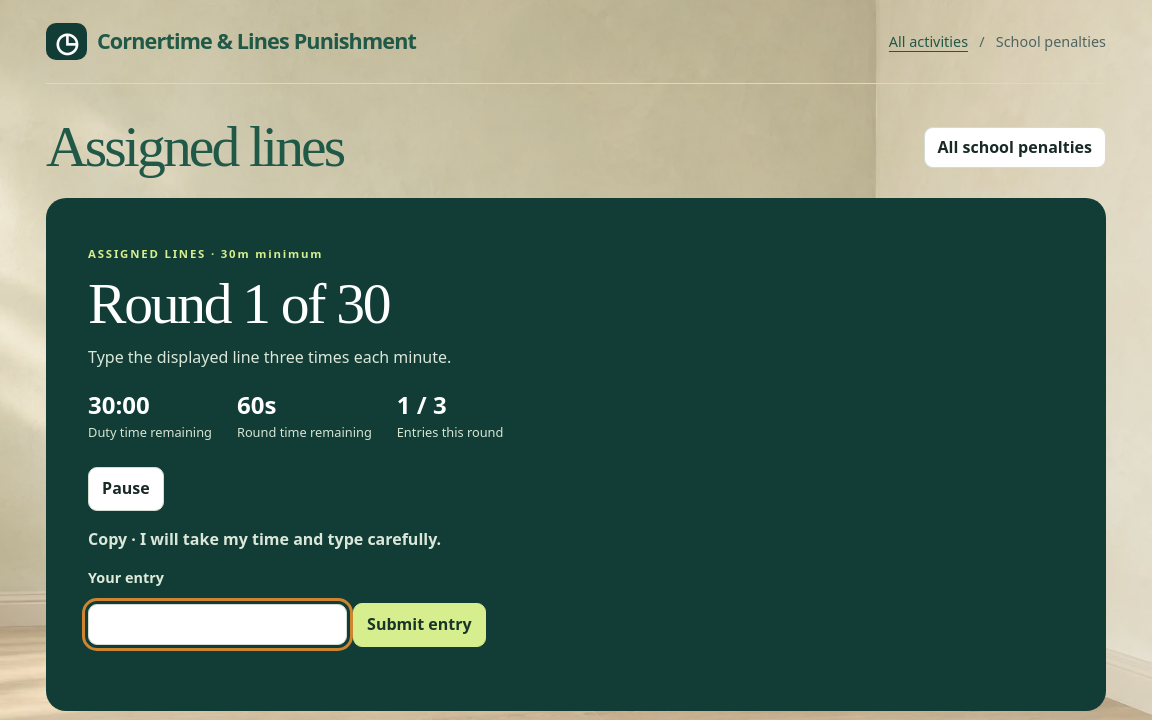
Test: rejects wrong lines, waits for the minute, resumes a draft and allows repeating a finished duty
This screenshot has width=1152, height=720.
Earlier steps of the test are not shown.
Later steps or results of the test are not shown.
Type "I will take my time and type carefully." into the field labelled "Your entry".
click(218, 625); type("I will take my time and type carefully.")  # box [88,604,347,645]
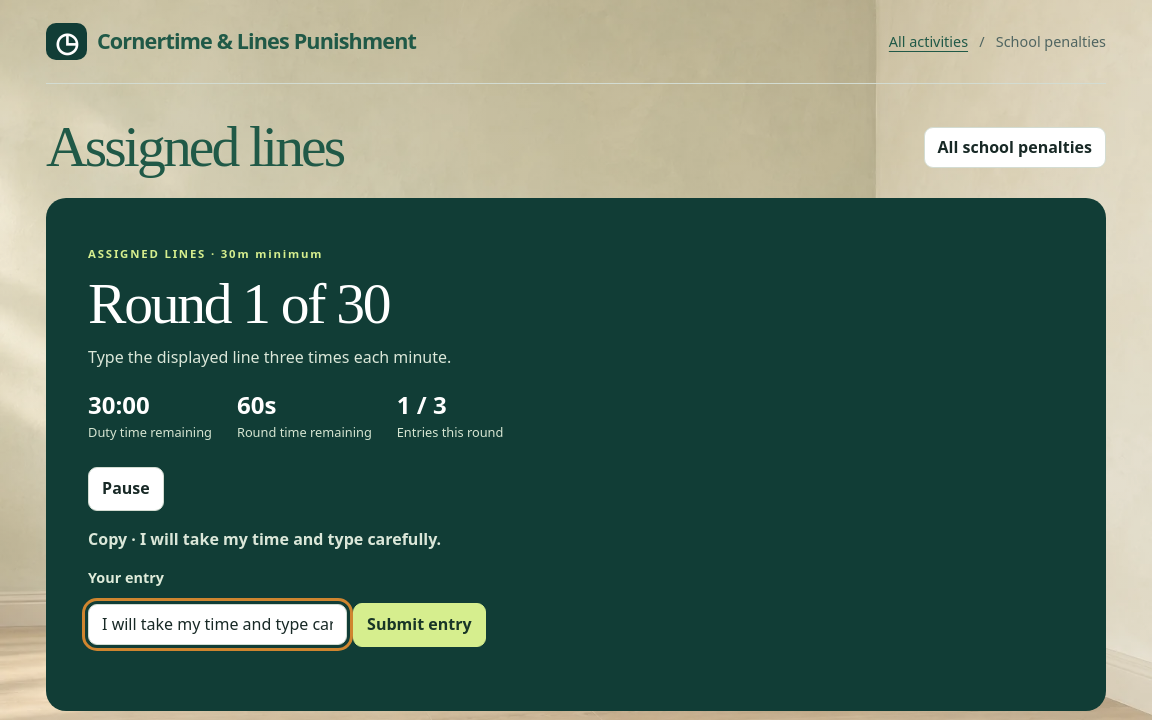
Submit the form, box [88,568,486,647]
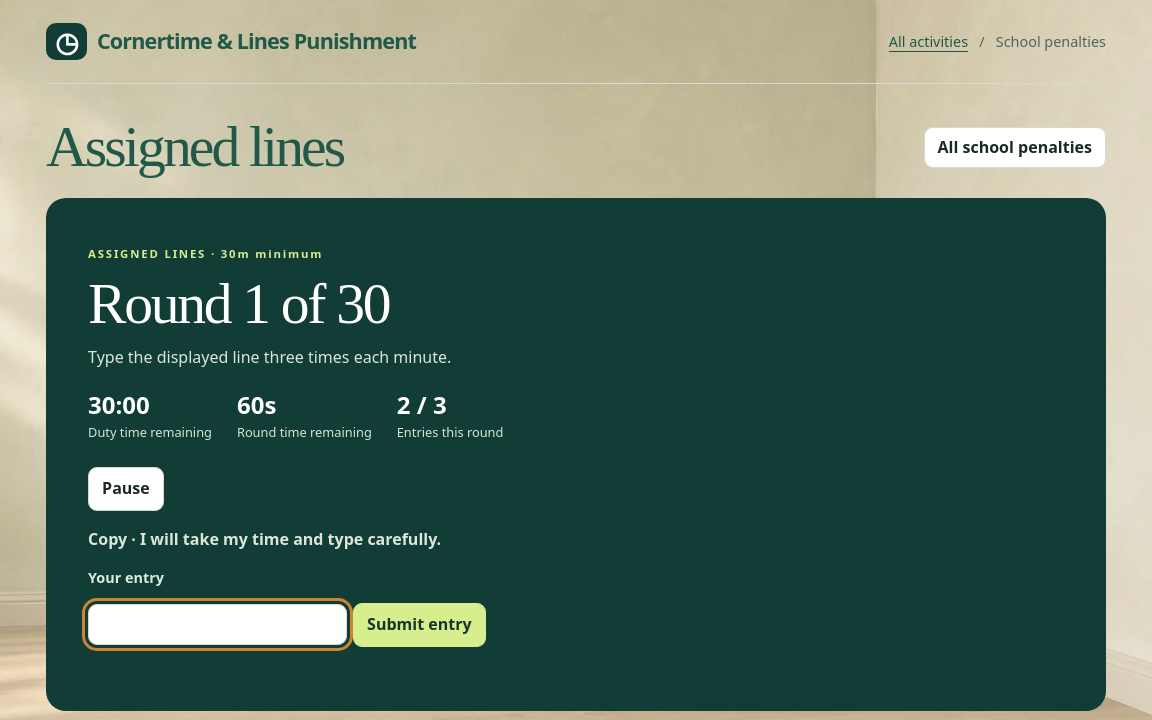
Type "I will take my time and type carefully." into the field labelled "Your entry".
click(218, 625); type("I will take my time and type carefully.")  # box [88,604,347,645]
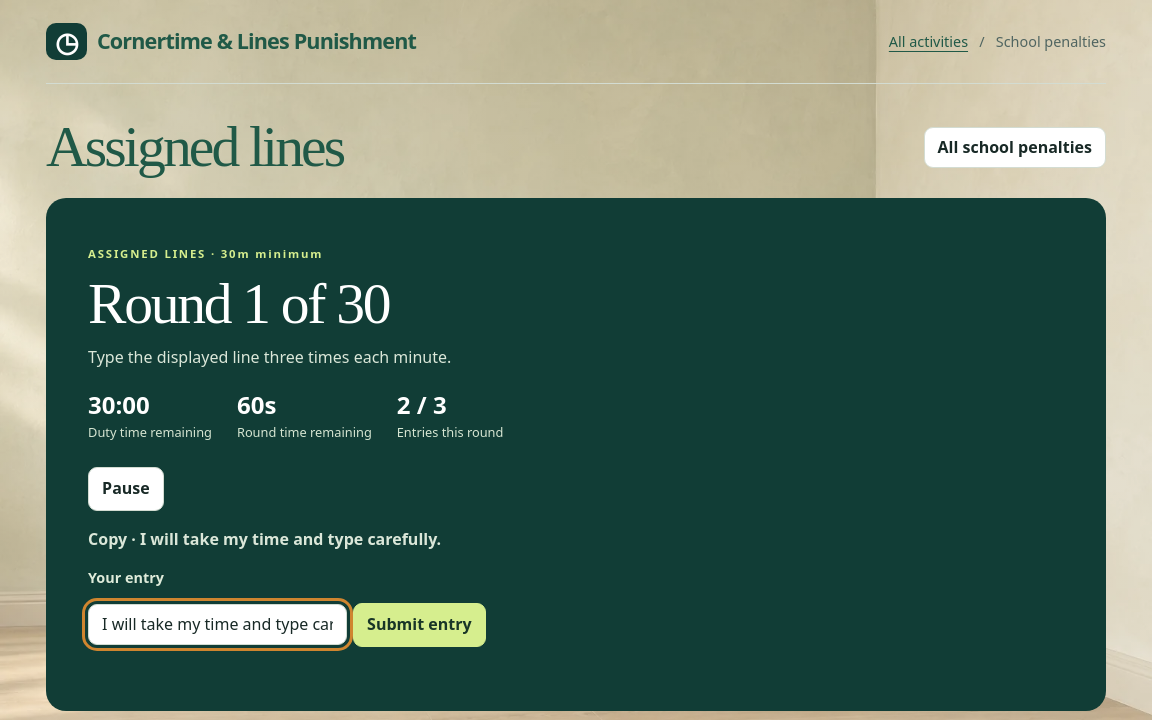
Submit the form, box [88,568,486,647]
Wait 59000 ms
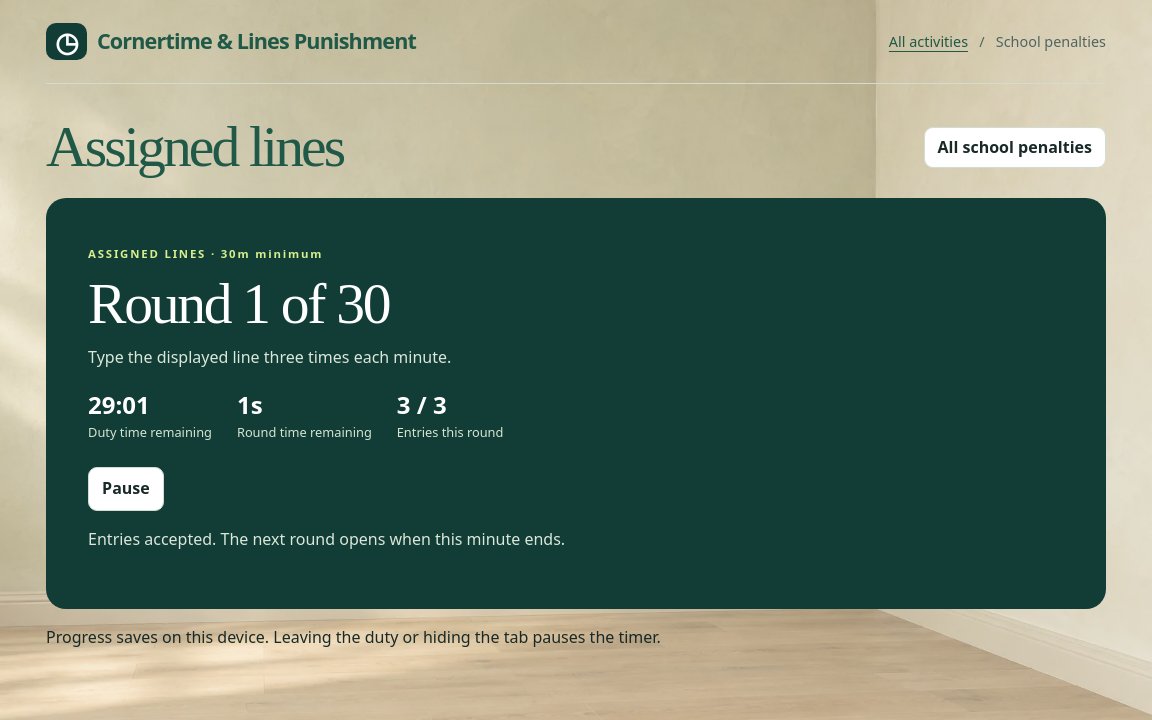
Expected: the text "Round 1 of 30" is shown, [88,272,389,335]
Click the button "Pause".
click(126, 489)  # box [88,467,164,511]
Wait 60000 ms
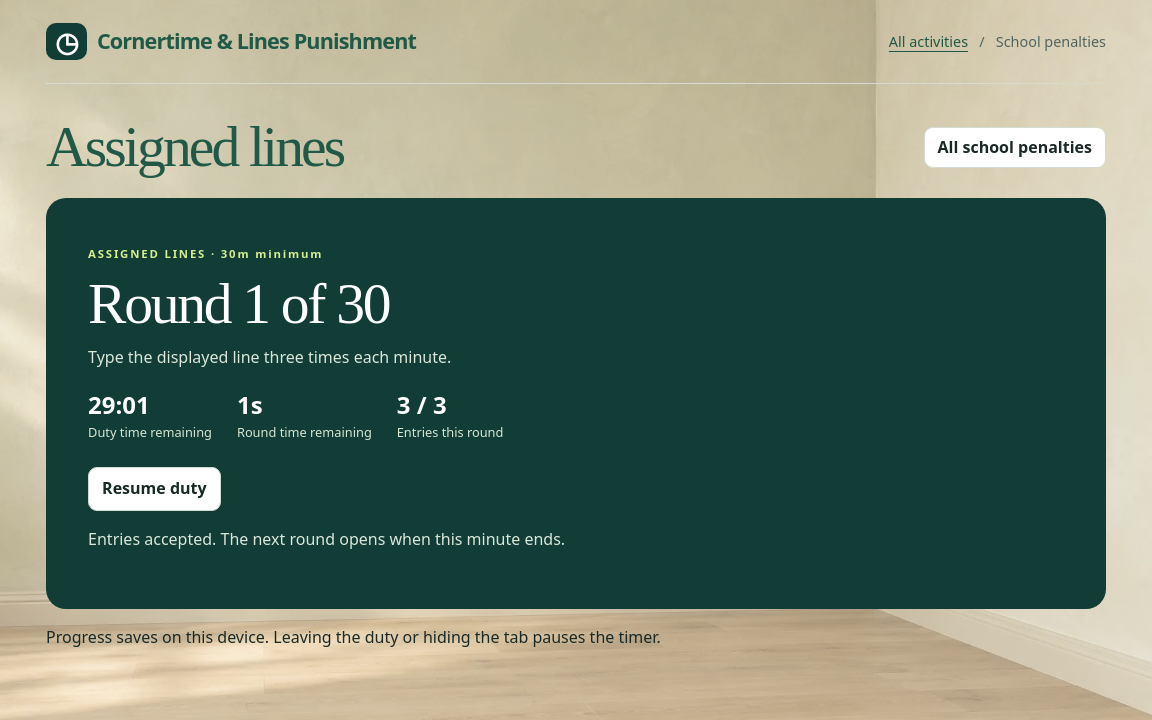
Expected: the text "Round 1 of 30" is shown, [88,272,389,335]
Click the button "Resume duty".
click(154, 489)  # box [88,467,221,511]
Wait 1000 ms
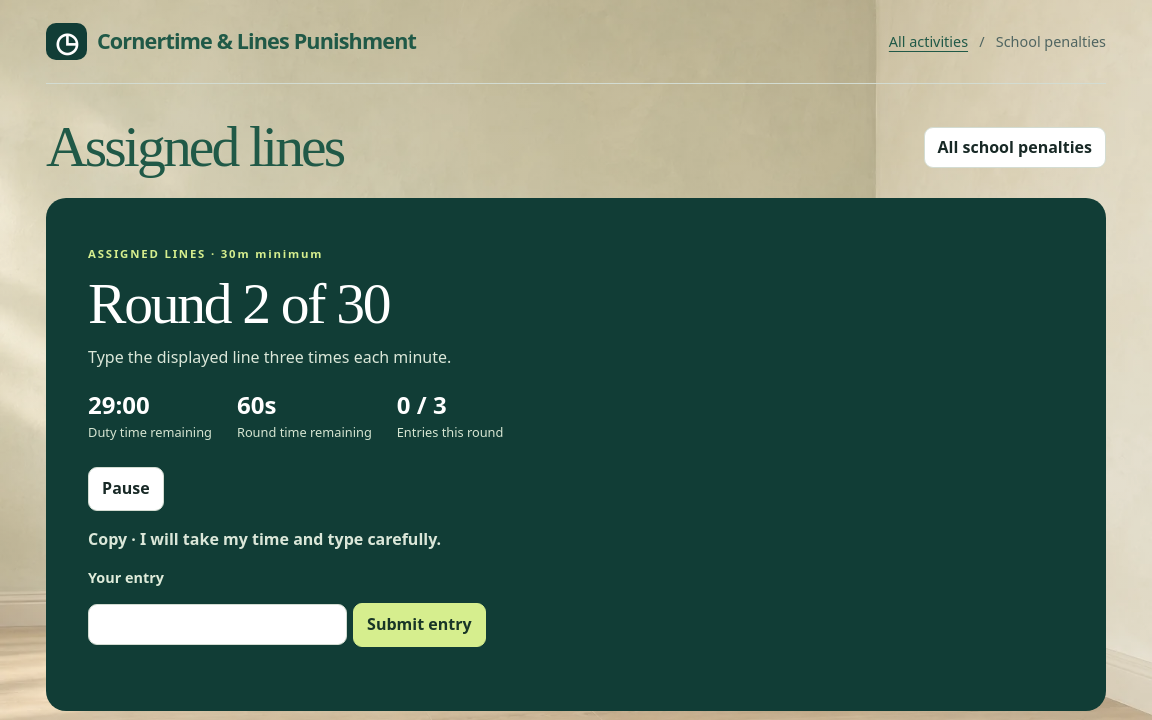
Expected: the text "Round 2 of 30" is shown, [88,272,389,335]
